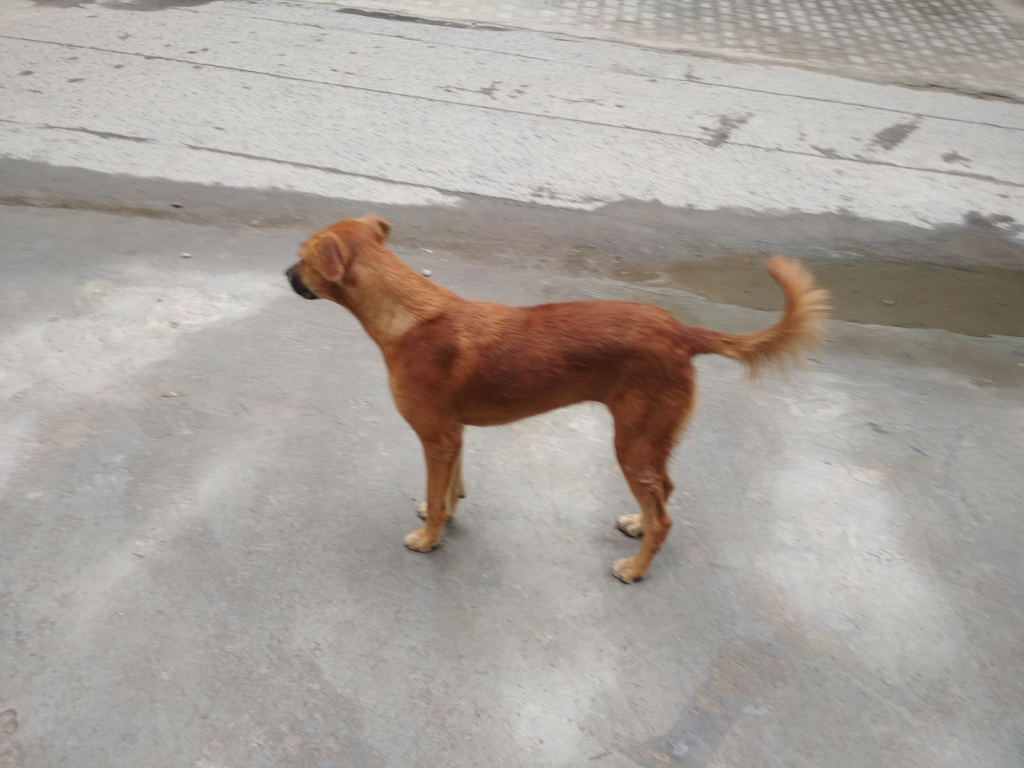dog: (284, 215, 829, 584)
